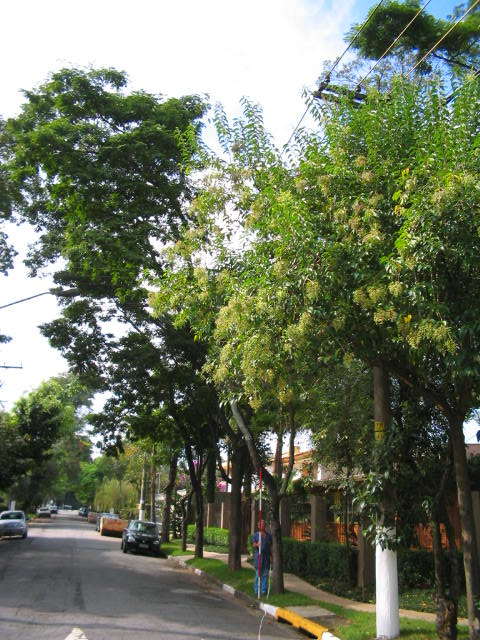crown: (285, 61, 479, 433)
stem: (436, 424, 478, 640), (263, 499, 296, 595)
stick: (246, 467, 264, 597)
tree: (283, 61, 479, 640), (148, 196, 375, 600)
